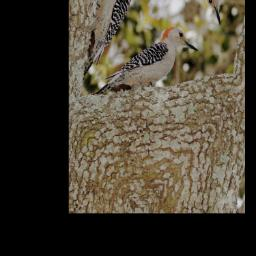Woodpecker: (87, 0, 203, 143)
